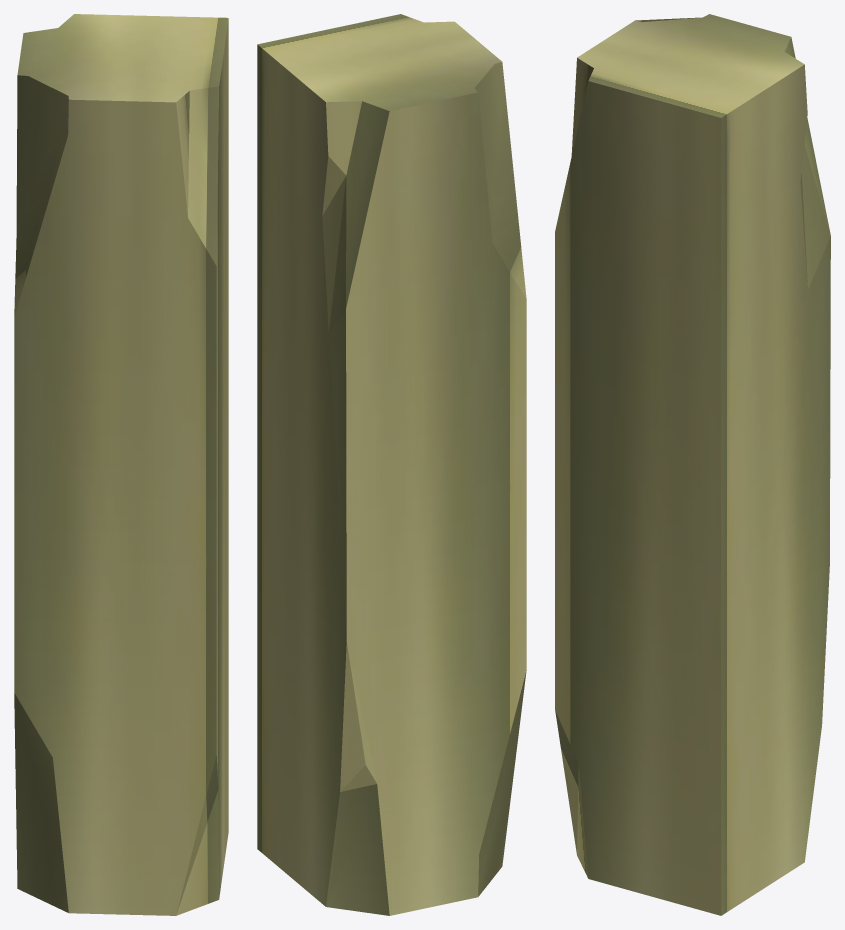
The model's file is TheOctagon_Floor_2_Col_2.gltf.
3 renders of one model, left to right at view 1: azimuth 30°, elevation 25°; view 2: azimuth 150°, elevation 25°; view 3: azimuth 270°, elevation 25°, orthographic.
Visible parts, largest first — view 1: TheOctagon_Floor_2_Col_2; view 2: TheOctagon_Floor_2_Col_2; view 3: TheOctagon_Floor_2_Col_2.
Part boxes in pixels (x1,y1,x2,y2): TheOctagon_Floor_2_Col_2: (14,14,228,915); TheOctagon_Floor_2_Col_2: (257,14,526,915); TheOctagon_Floor_2_Col_2: (555,14,830,915).
Size of the model in its own units: 2.59 by 8.29 by 2.6.
1 material, 1 textured.
